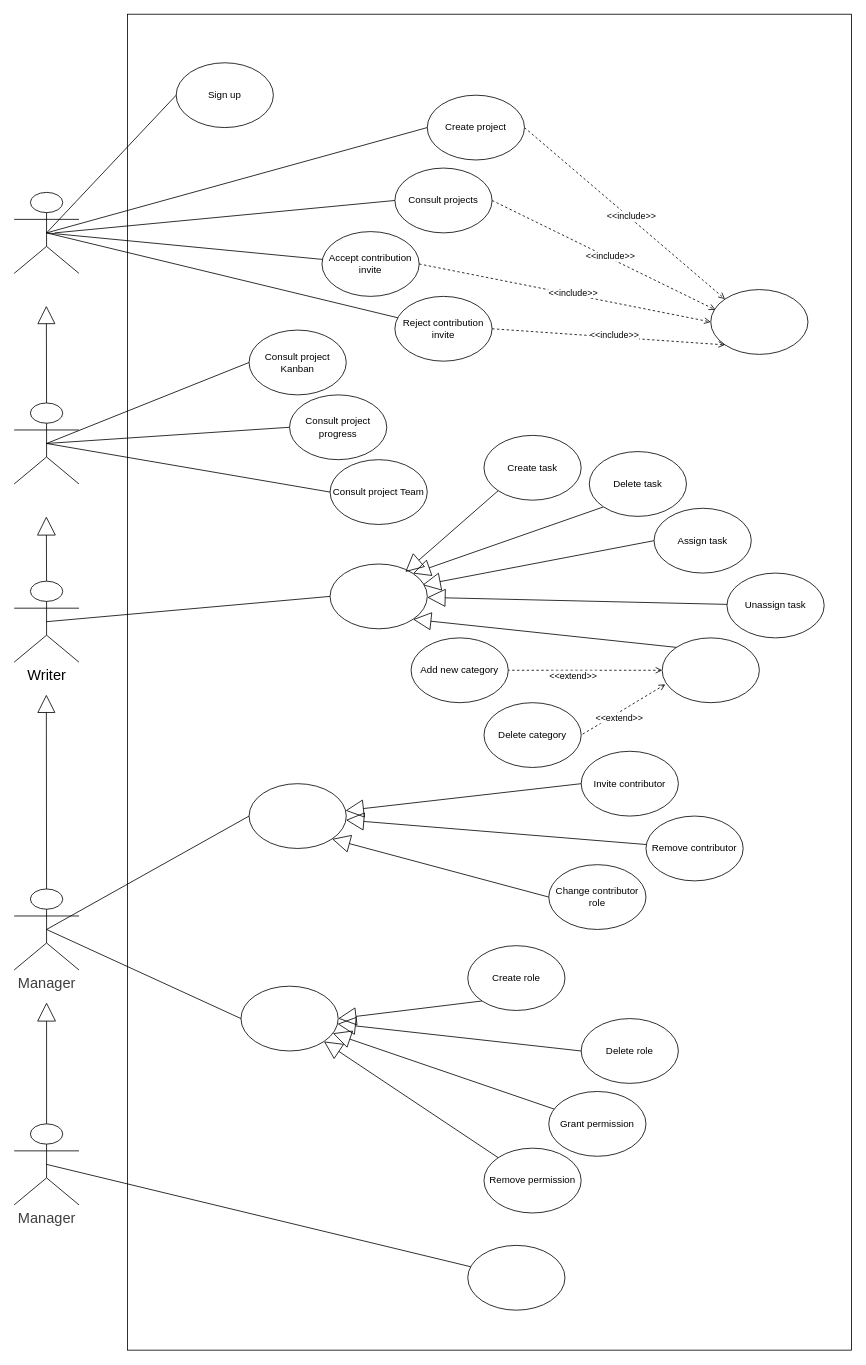
This 866x1365 diagram has some shape labels left out. Each missing label, with the centre of its shape:
"Categorize task" goes at point 710,670.
"Delete project" goes at point 516,1277.
"login" goes at point 759,321.
"manage contributors" goes at point 297,815.
"manage roles" goes at point 289,1018.
"Manage Tasks" goes at point 378,596.
"Reader" goes at point 46,443.
"User" goes at point 46,232.
